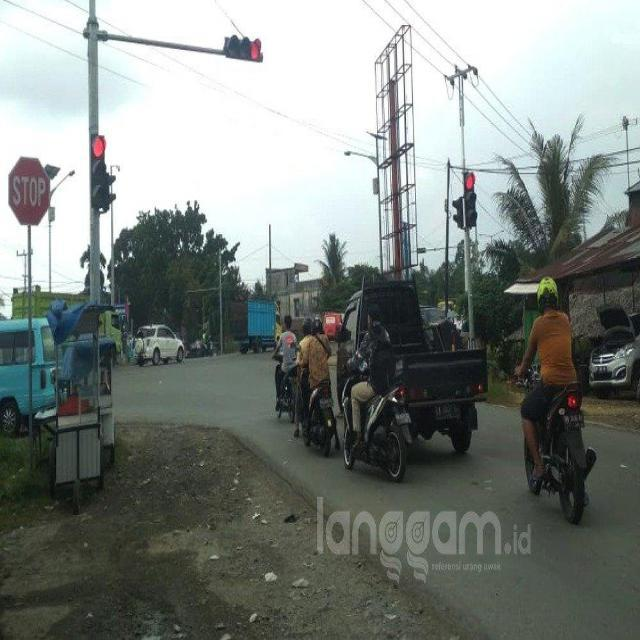red_light: (94, 131, 110, 213), (224, 35, 262, 64), (464, 168, 476, 230)
